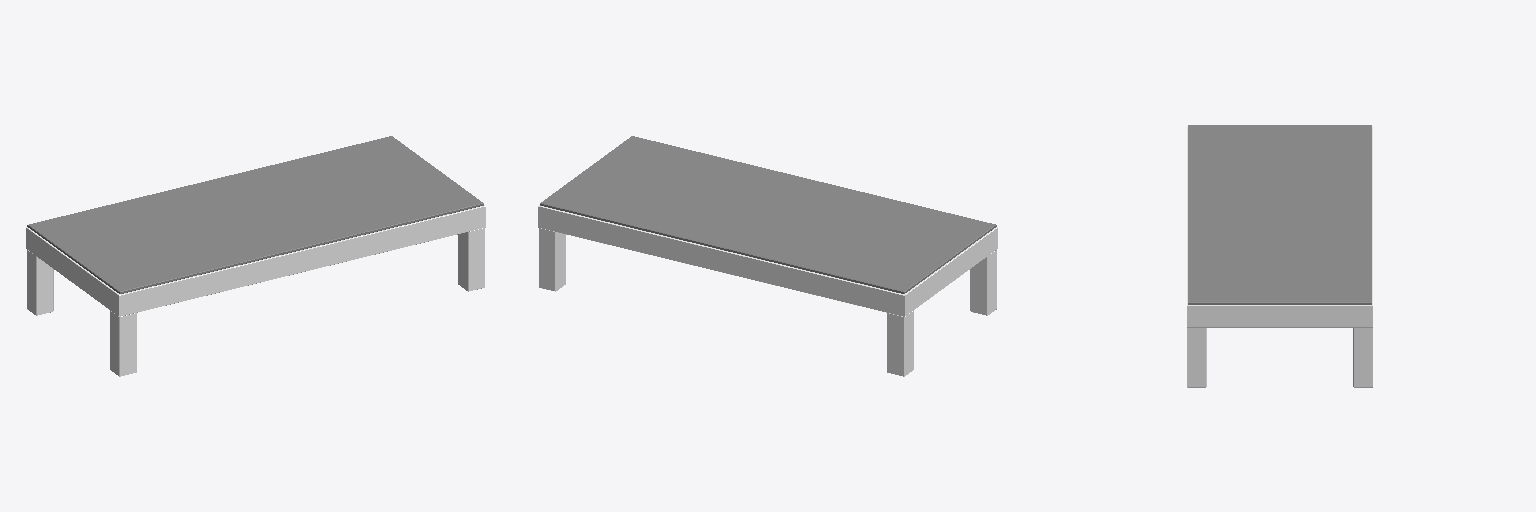
Rendered from coffee-table-light-wood.obj.
3 renders of one model, left to right at view 1: azimuth 30°, elevation 25°; view 2: azimuth 150°, elevation 25°; view 3: azimuth 270°, elevation 25°, orthographic.
Visible parts, largest first — view 1: polySurface47, polySurface48, polySurface51, polySurface50, polySurface52; view 2: polySurface47, polySurface48, polySurface52, polySurface49, polySurface51; view 3: polySurface47, polySurface48, polySurface50, polySurface49.
Boxes of the visible parts, x1,y1,x2,y2 form: polySurface47: [27, 136, 483, 293]; polySurface48: [26, 205, 485, 316]; polySurface51: [110, 311, 136, 376]; polySurface50: [458, 228, 484, 291]; polySurface52: [27, 250, 53, 315]; polySurface47: [540, 136, 996, 293]; polySurface48: [538, 205, 997, 316]; polySurface52: [887, 311, 913, 376]; polySurface49: [539, 228, 565, 291]; polySurface51: [970, 250, 996, 315]; polySurface47: [1188, 125, 1371, 304]; polySurface48: [1187, 127, 1372, 327]; polySurface50: [1187, 328, 1206, 387]; polySurface49: [1353, 328, 1372, 387].
Bounding box in the file's own units: 1.53 × 0.3369 × 0.675.